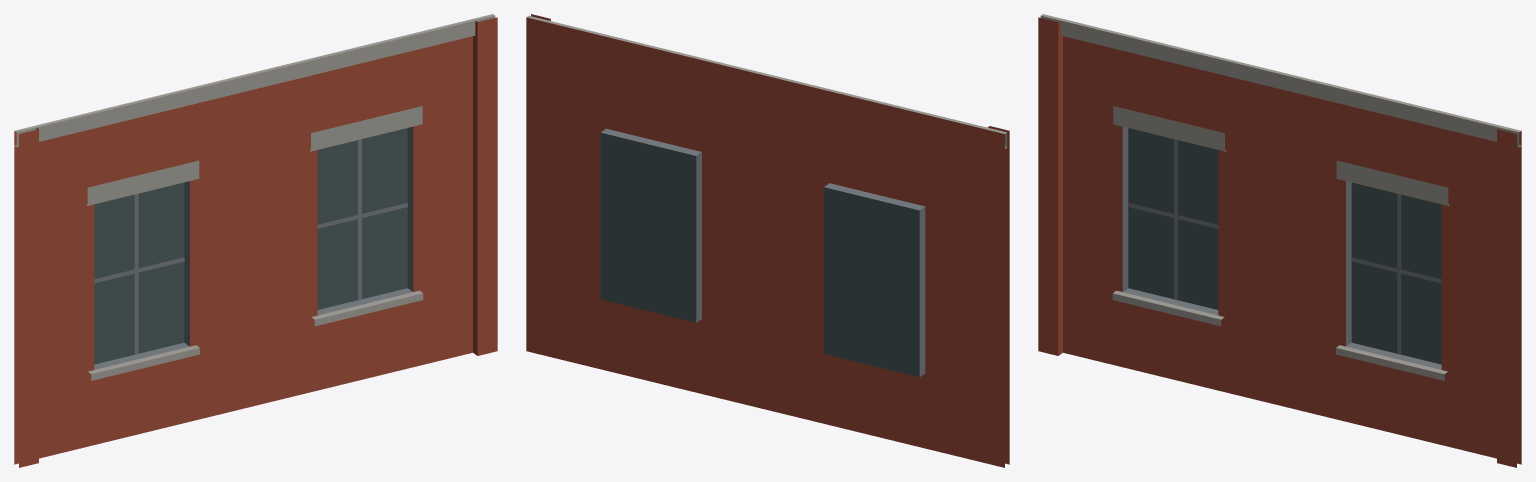
File: mid-w1.fbx
The picture shows the model from 3 angles, left to right: view 1: azimuth 30°, elevation 25°; view 2: azimuth 150°, elevation 25°; view 3: azimuth 330°, elevation 25°; orthographic projection.
Parts seen in each view (by area): view 1: a2013/700/mid-w1; view 2: a2013/700/mid-w1; view 3: a2013/700/mid-w1.
Boxes of the visible parts, bbox=[...] form: a2013/700/mid-w1: bbox=[14, 14, 497, 467]; a2013/700/mid-w1: bbox=[526, 14, 1009, 467]; a2013/700/mid-w1: bbox=[1038, 14, 1521, 467].
Bounding box in the file's own units: 6 × 4 × 0.22.
